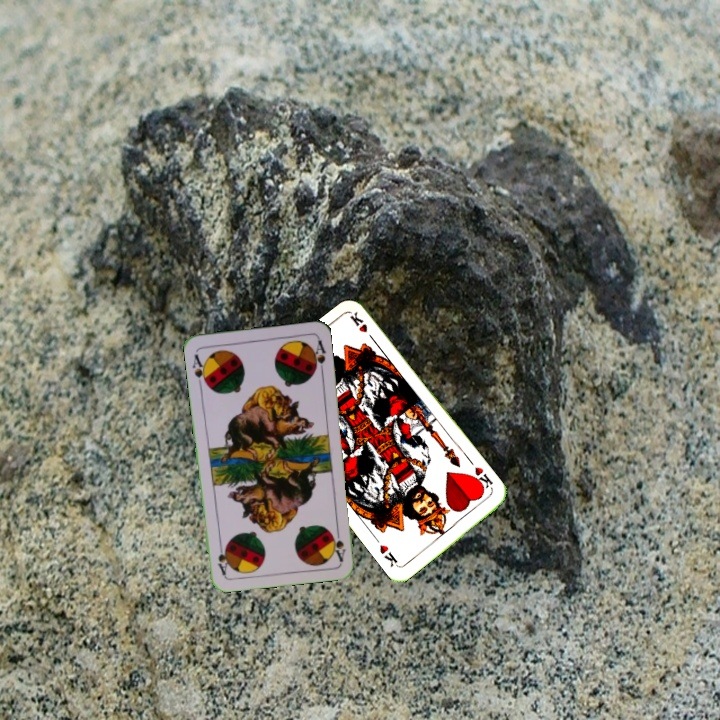HK: (468, 463, 495, 493)
SA: (188, 350, 210, 389), (328, 523, 348, 564)
